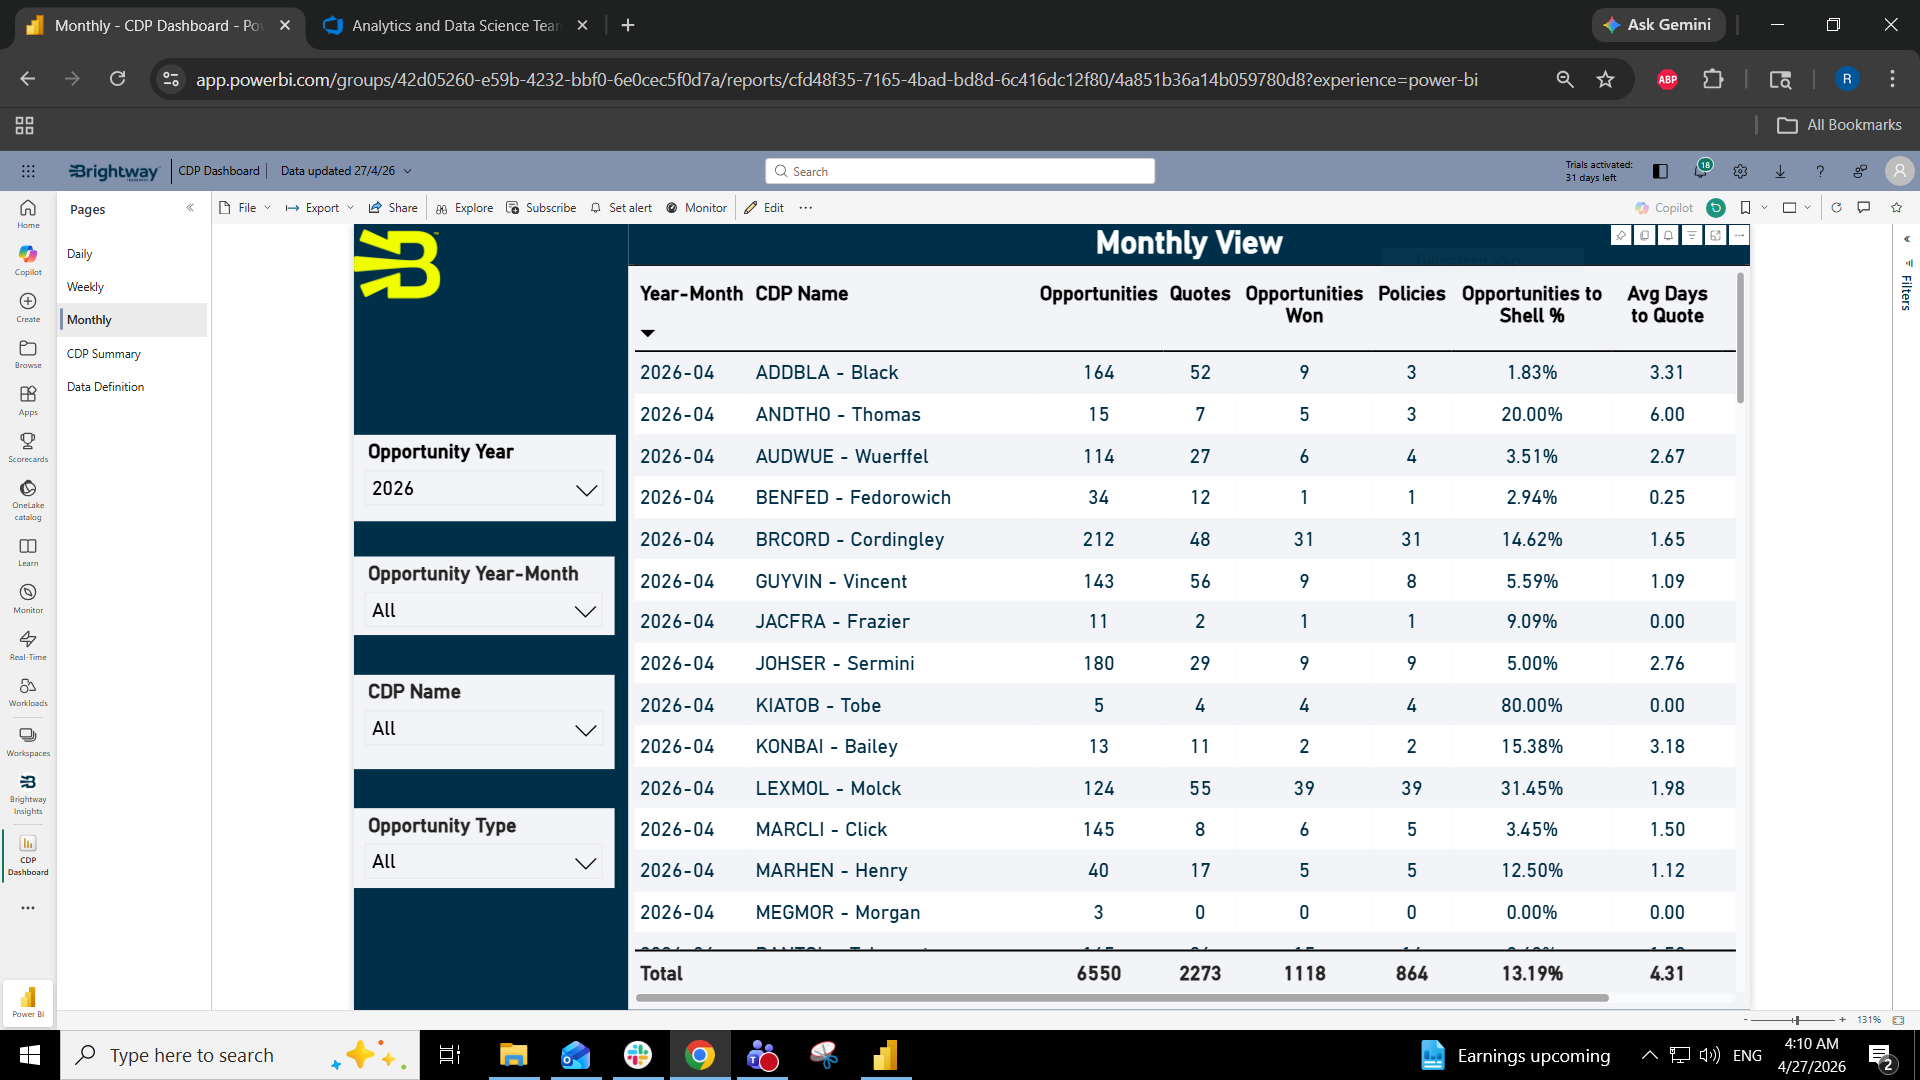

The page's visual inventory and layout, read from the dashboard file:
{"tool":"powerbi","page":{"name":"Monthly","canvas":[1280,720],"ordinal":2},"visuals":[{"type":"tableEx","title":"Monthly View","fields":{"Values":["Date.Month-Year","CDP.Employee Key","CDP.Opportunities Count","CDP.Quotes Count","CDP.Opportunities Won","CDP.Policies","CDP.Conversion %","CDP.Avg Days to Quote (DateDiff)","CDP.Avg Days to Shell (DateDiff)"]},"box":[251.3,0,1029,719.7],"z":0},{"type":"slicer","fields":{"Values":["Date.Year"]},"box":[0,193.3,239.4,78.8],"z":1000},{"type":"slicer","fields":{"Values":["Date.Month-Year"]},"box":[0,305,238.3,72.5],"z":2000},{"type":"image","box":[0,0,79.7,72.2],"z":3000},{"type":"slicer","fields":{"Values":["CDP.Employee Key"]},"box":[0,413.2,238.7,86.4],"z":4000},{"type":"slicer","fields":{"Values":["CDP.opportunitytype"]},"box":[0,535.3,238.5,73.5],"z":5000}]}

Visuals, with their boxes on the page's 1280x720 design canvas (x1, y1, x2, y2). These are canvas units, not pixel positions in the 1920x1080 screenshot, which may show the page scaled, cropped or inside an application window:
"Monthly View" tableEx: 251 0 1280 720
slicer - Date.Year: 0 193 239 272
slicer - Date.Month-Year: 0 305 238 378
image: 0 0 80 72
slicer - CDP.Employee Key: 0 413 239 500
slicer - CDP.opportunitytype: 0 535 238 609
